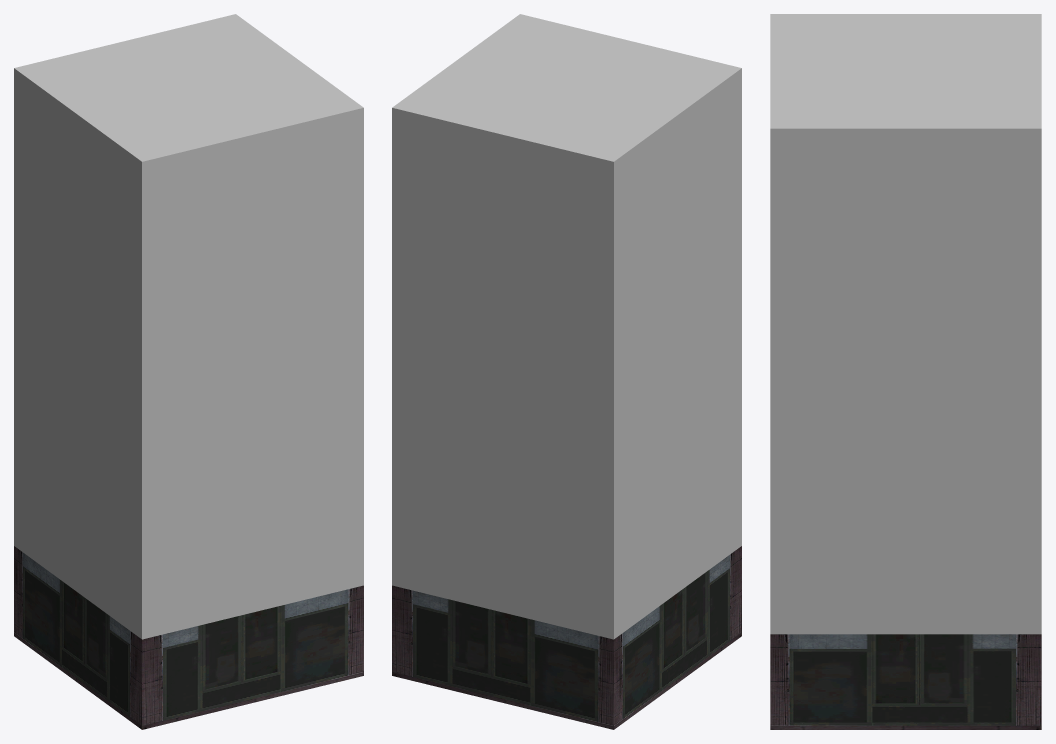
Rendered from NEW building 12.fbx.
3 views of the same model, side by side, from view 1: azimuth 30°, elevation 25°; view 2: azimuth 150°, elevation 25°; view 3: azimuth 270°, elevation 25° (orthographic). The views are drawn at different scales.
Visible parts, largest first — view 1: Object_6.007; view 2: Object_6.007; view 3: Object_6.007.
Boxes of the visible parts, bbox=[...] form: Object_6.007: bbox=[14, 14, 363, 729]; Object_6.007: bbox=[392, 14, 741, 729]; Object_6.007: bbox=[770, 14, 1041, 729].
Bounding box in the file's own units: 217 × 531 × 217.
